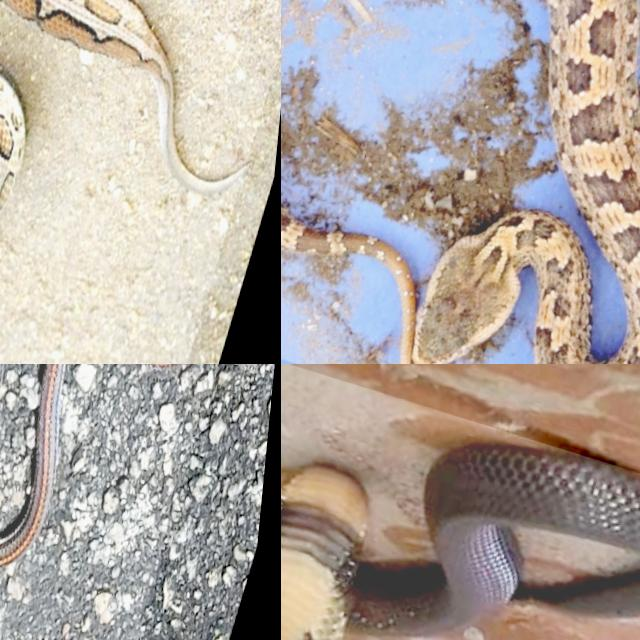Calliophis intestinalis: (0, 364, 66, 565)
Daboia siamensis: (2, 0, 244, 192)
Naja kaouthia: (281, 446, 639, 639)
Ovophis monticola: (281, 0, 639, 363)
snake: (281, 0, 639, 363), (281, 446, 639, 639), (2, 0, 244, 192), (0, 364, 66, 565)
